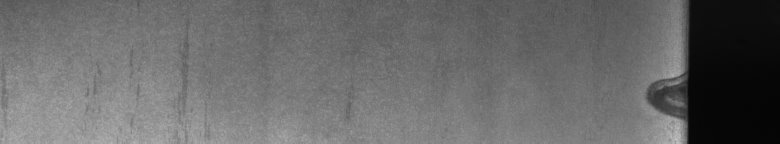hb: (640, 72, 676, 124)
